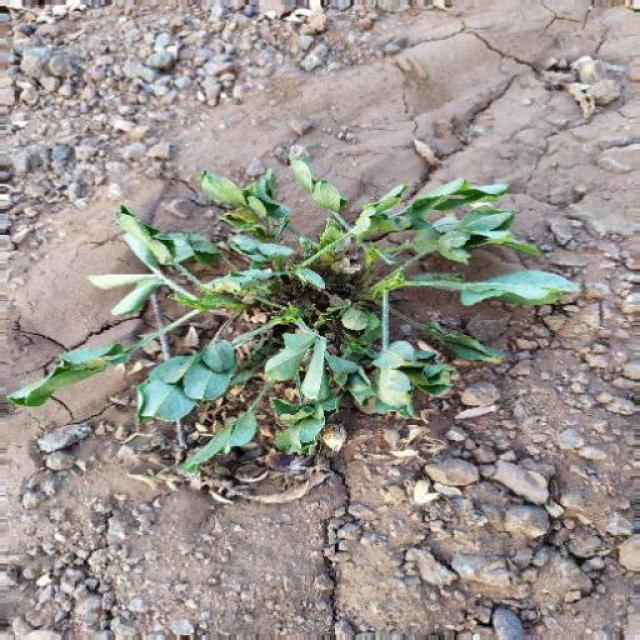weed: (12, 142, 580, 464)
